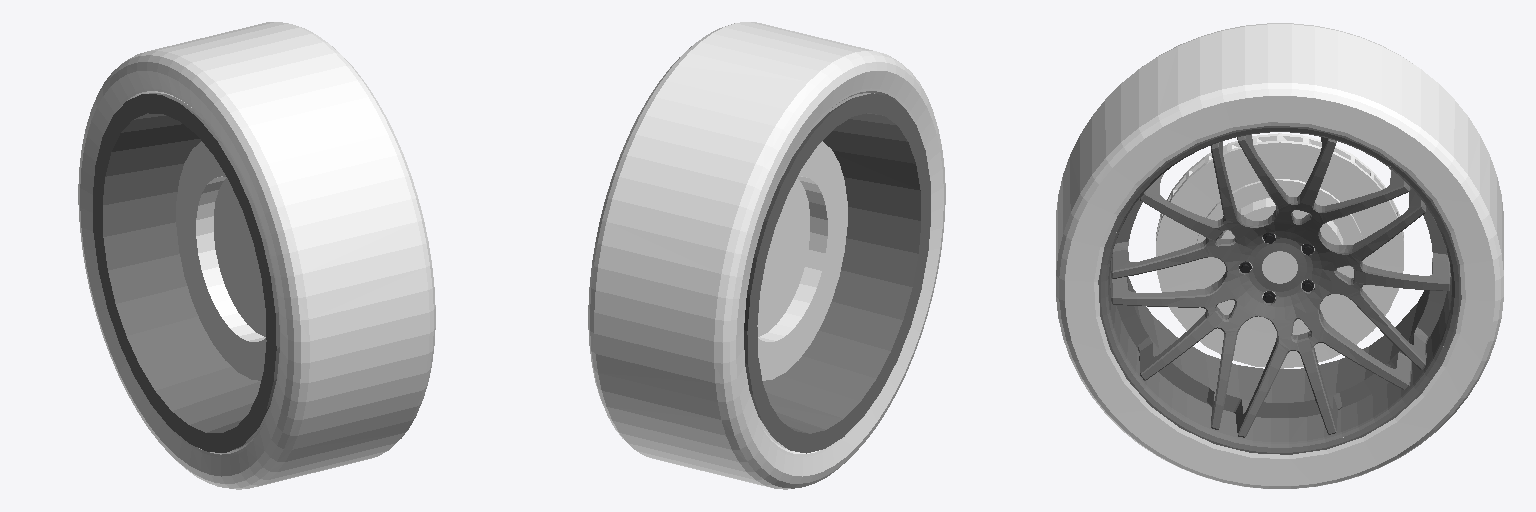
Rendered from wheel.obj.
3 renders of one model, left to right at view 1: azimuth 30°, elevation 25°; view 2: azimuth 150°, elevation 25°; view 3: azimuth 270°, elevation 25°, orthographic.
Visible parts, largest first — view 1: car.093_car.200; view 2: car.093_car.200; view 3: car.093_car.200.
Boxes of the visible parts, x1=… form: car.093_car.200: x1=78, y1=22, x2=435, y2=489; car.093_car.200: x1=588, y1=22, x2=945, y2=489; car.093_car.200: x1=1056, y1=23, x2=1503, y2=488.
Size of the model in its own units: 0.3052 by 0.8234 by 0.8234.